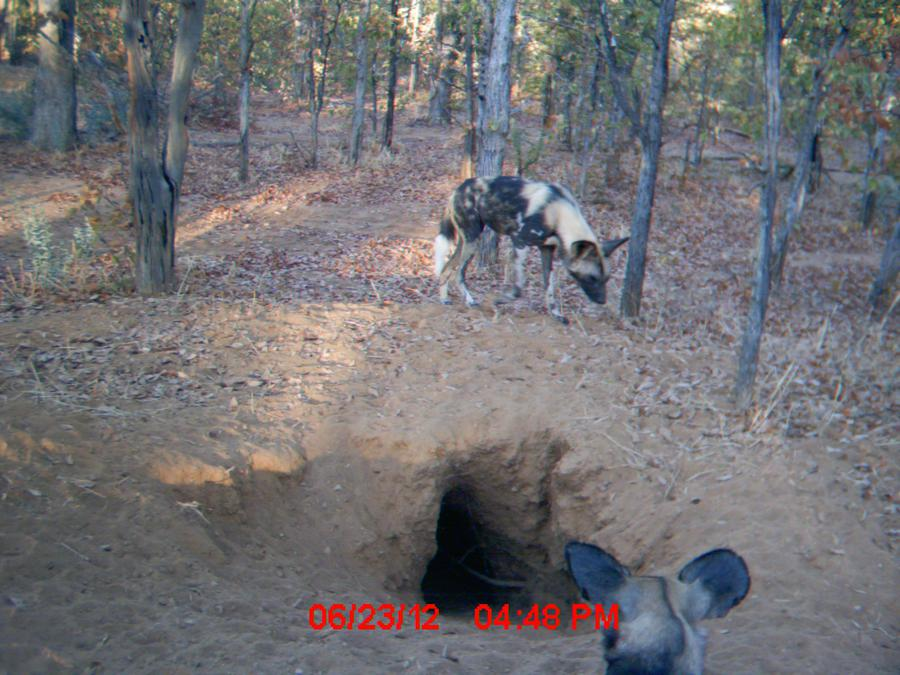wilddog: (417, 157, 643, 291)
